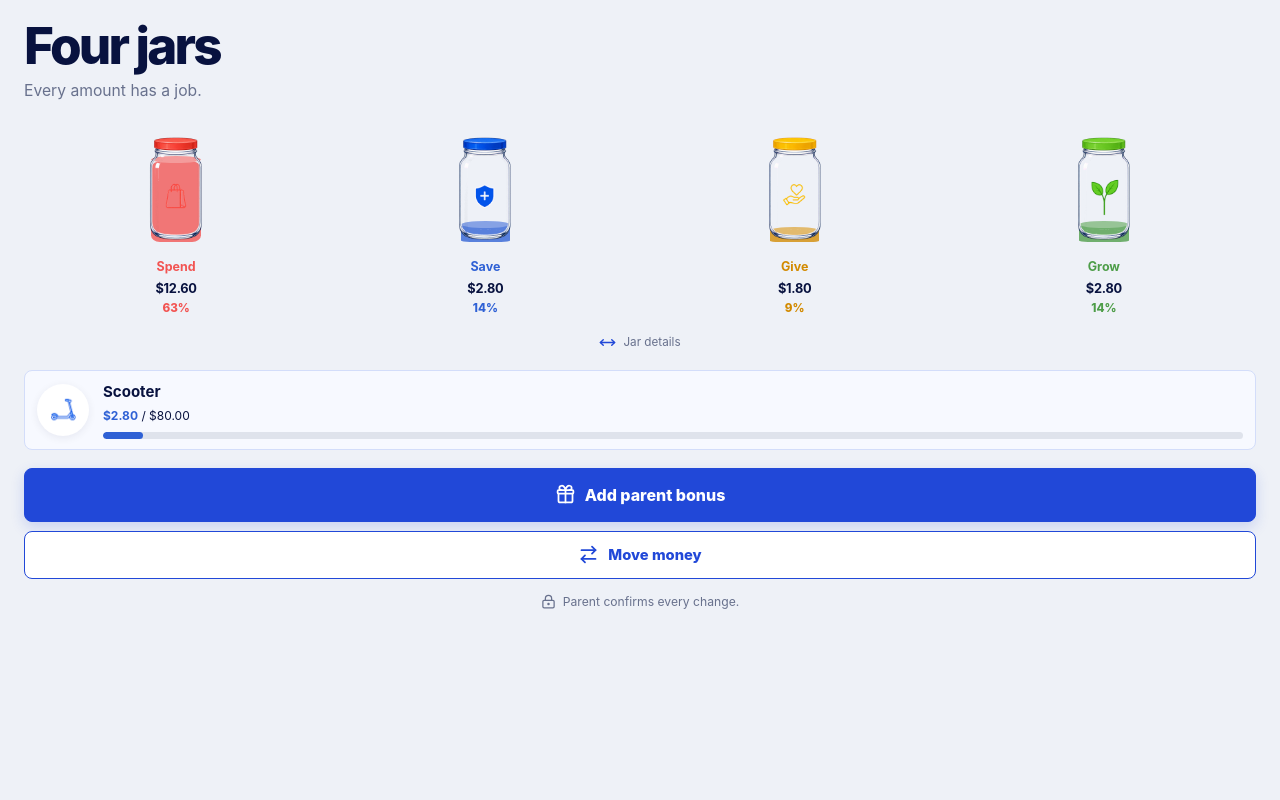
Test: approved closed-week experience › opens a focused jar from the Four Jars overview
The image size is (1280, 800).
expect the heading "Four jars" is shown: met, box 24,14 -> 220,76
Click the button named "Save jar": (485, 187) 441,121 -> 529,253
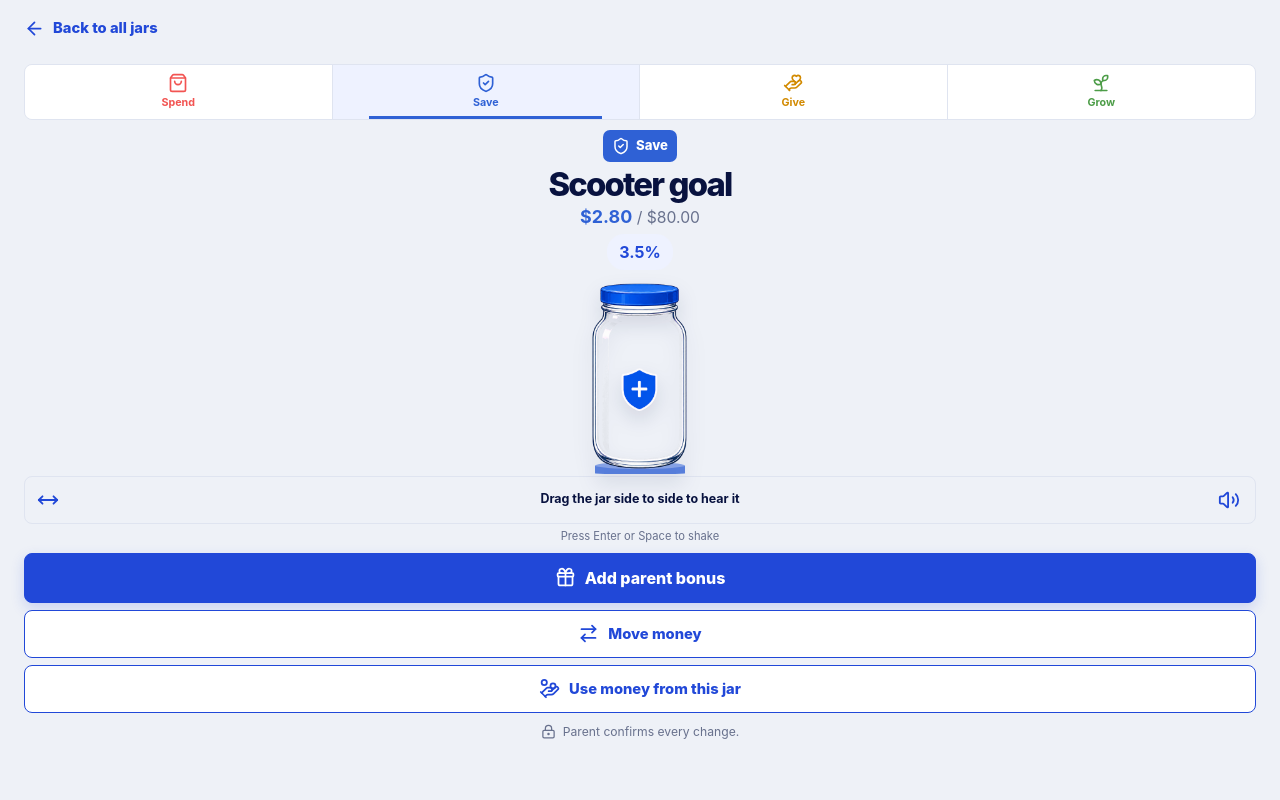
expect the heading "Scooter goal" is shown: met, box 548,168 -> 732,200
